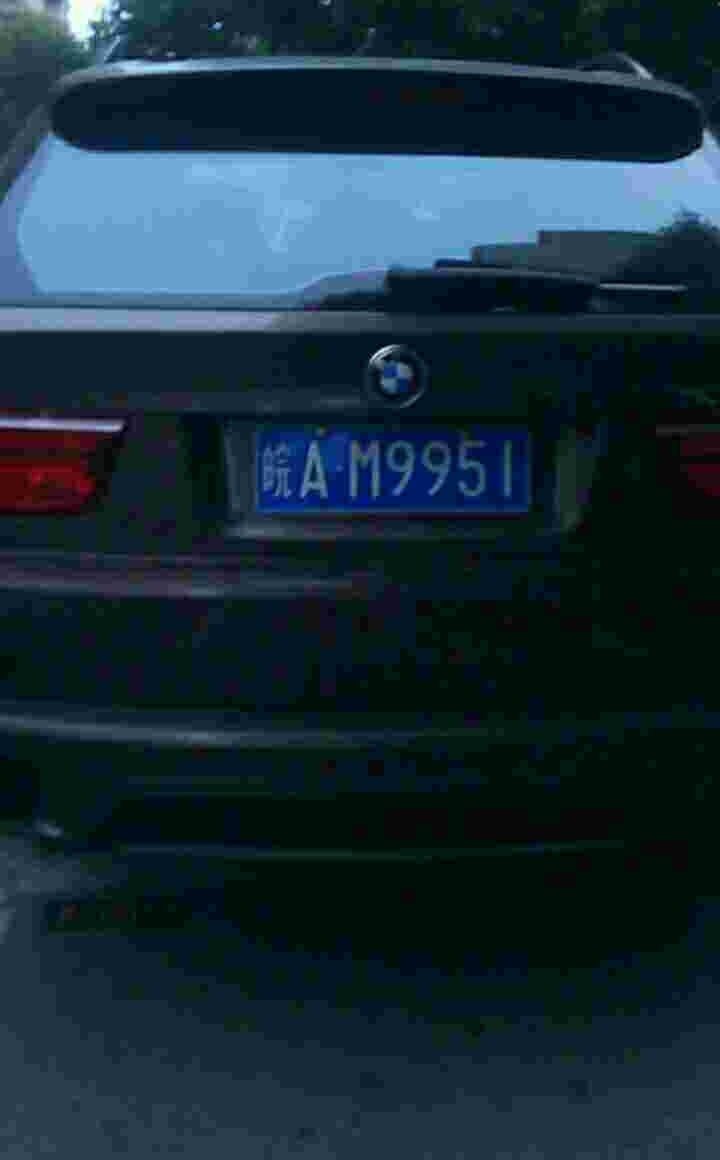license_plate: (245, 427, 556, 523)
